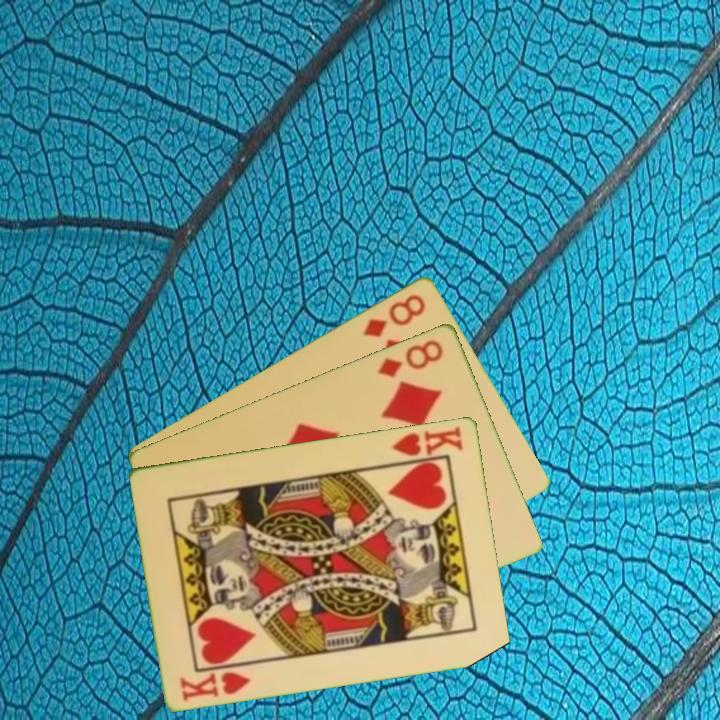8d: (359, 290, 429, 340), (374, 335, 446, 380)
Kh: (387, 422, 466, 466), (176, 667, 254, 705)
